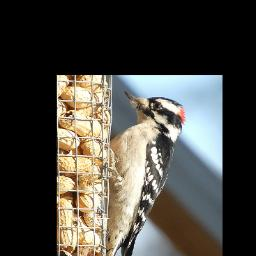Woodpecker: (101, 92, 186, 256)
